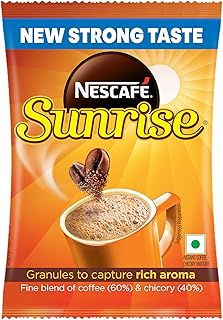Coffee: (1, 1, 223, 320)
